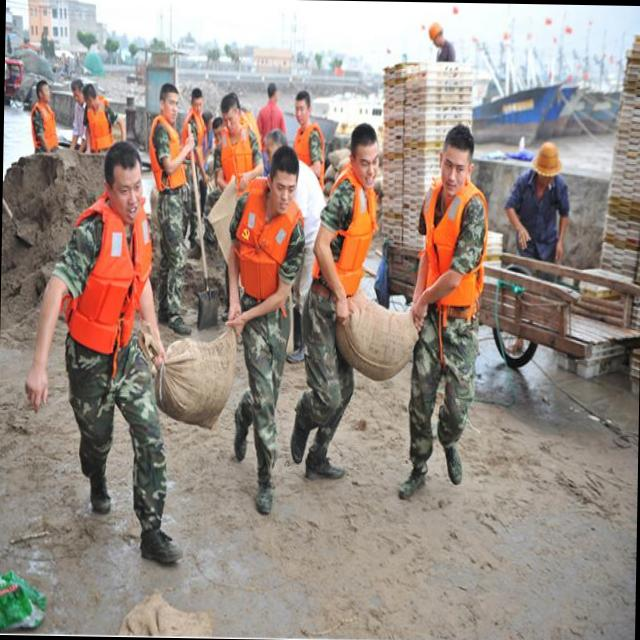Helmet: (532, 140, 562, 183)
Vest: (62, 190, 152, 360), (412, 181, 492, 316), (222, 190, 307, 312), (310, 166, 380, 297), (148, 116, 188, 197), (210, 133, 258, 180), (78, 104, 119, 152), (28, 96, 64, 150), (292, 126, 324, 164)
